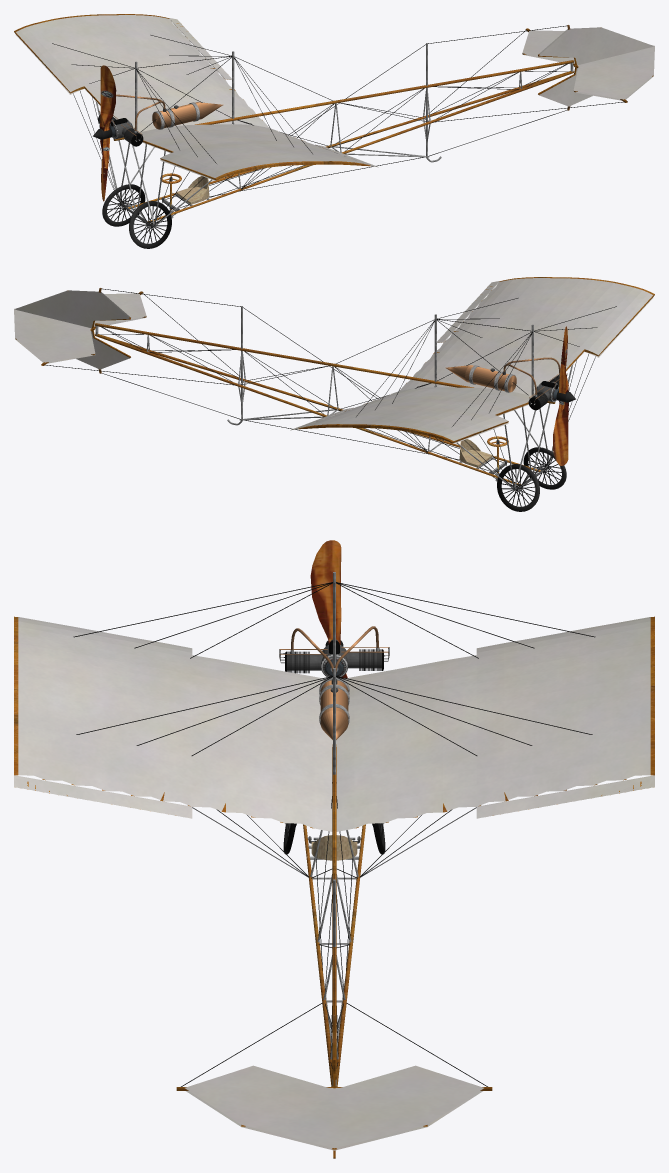
The picture shows the model from 3 angles, top to bottom: view 1: azimuth 30°, elevation 25°; view 2: azimuth 150°, elevation 25°; view 3: azimuth 270°, elevation 25°; orthographic projection. The views are drawn at different scales.
Visible parts, largest first — view 1: ailessoie_ailessoie.mesh, queuesoie_queuesoie.mesh, structure2_structure2.mesh, cables_cables.mesh, structure1_structure1.mesh, reservoir_reservoir.mesh, ailes_ailes.mesh, helice_helice.mesh, roueG_roueG.mesh, roueD_roueD.mesh, moteur_moteur.mesh, patte_patte.mesh (+2 smaller); view 2: ailessoie_ailessoie.mesh, queuesoie_queuesoie.mesh, structure2_structure2.mesh, cables_cables.mesh, structure1_structure1.mesh, reservoir_reservoir.mesh, ailes_ailes.mesh, helice_helice.mesh, roueD_roueD.mesh, roueG_roueG.mesh, patte_patte.mesh, moteur_moteur.mesh (+2 smaller); view 3: ailessoie_ailessoie.mesh, queuesoie_queuesoie.mesh, cables_cables.mesh, structure2_structure2.mesh, helice_helice.mesh, moteur_moteur.mesh, aileronGsoie_aileronGsoie.mesh, aileronDsoie_aileronDsoie.mesh, reservoir_reservoir.mesh, ailes_ailes.mesh, structure1_structure1.mesh, siege_siege.mesh.
Part boxes in pixels (x1,y1,x2,y2): ailessoie_ailessoie.mesh: [16, 15, 366, 180]; queuesoie_queuesoie.mesh: [522, 27, 654, 106]; structure2_structure2.mesh: [113, 60, 573, 222]; cables_cables.mesh: [52, 35, 568, 226]; structure1_structure1.mesh: [95, 62, 573, 225]; reservoir_reservoir.mesh: [116, 94, 223, 132]; ailes_ailes.mesh: [14, 14, 370, 180]; helice_helice.mesh: [100, 65, 116, 201]; roueG_roueG.mesh: [129, 201, 171, 248]; roueD_roueD.mesh: [102, 184, 145, 226]; moteur_moteur.mesh: [98, 111, 143, 146]; patte_patte.mesh: [135, 43, 441, 162]; ailessoie_ailessoie.mesh: [302, 278, 652, 443]; queuesoie_queuesoie.mesh: [14, 290, 146, 369]; structure2_structure2.mesh: [95, 323, 555, 485]; cables_cables.mesh: [100, 298, 616, 489]; structure1_structure1.mesh: [95, 325, 573, 488]; reservoir_reservoir.mesh: [445, 357, 560, 396]; ailes_ailes.mesh: [298, 277, 654, 443]; helice_helice.mesh: [552, 326, 568, 465]; roueD_roueD.mesh: [497, 464, 539, 511]; roueG_roueG.mesh: [523, 447, 566, 489]; patte_patte.mesh: [227, 306, 533, 425]; moteur_moteur.mesh: [528, 373, 567, 410]; ailessoie_ailessoie.mesh: [18, 617, 650, 831]; queuesoie_queuesoie.mesh: [185, 1065, 483, 1150]; cables_cables.mesh: [73, 582, 595, 1068]; structure2_structure2.mesh: [303, 744, 365, 1086]; helice_helice.mesh: [310, 540, 347, 678]; moteur_moteur.mesh: [279, 639, 389, 676]; aileronGsoie_aileronGsoie.mesh: [14, 775, 192, 818]; aileronDsoie_aileronDsoie.mesh: [476, 775, 654, 818]; reservoir_reservoir.mesh: [290, 626, 379, 739]; ailes_ailes.mesh: [14, 616, 654, 828]; structure1_structure1.mesh: [307, 782, 361, 1086]; siege_siege.mesh: [311, 835, 357, 860].
Bounding box in the file's own units: 8 × 2.45 × 4.99.
Materials: 4 (4 with a texture image).
